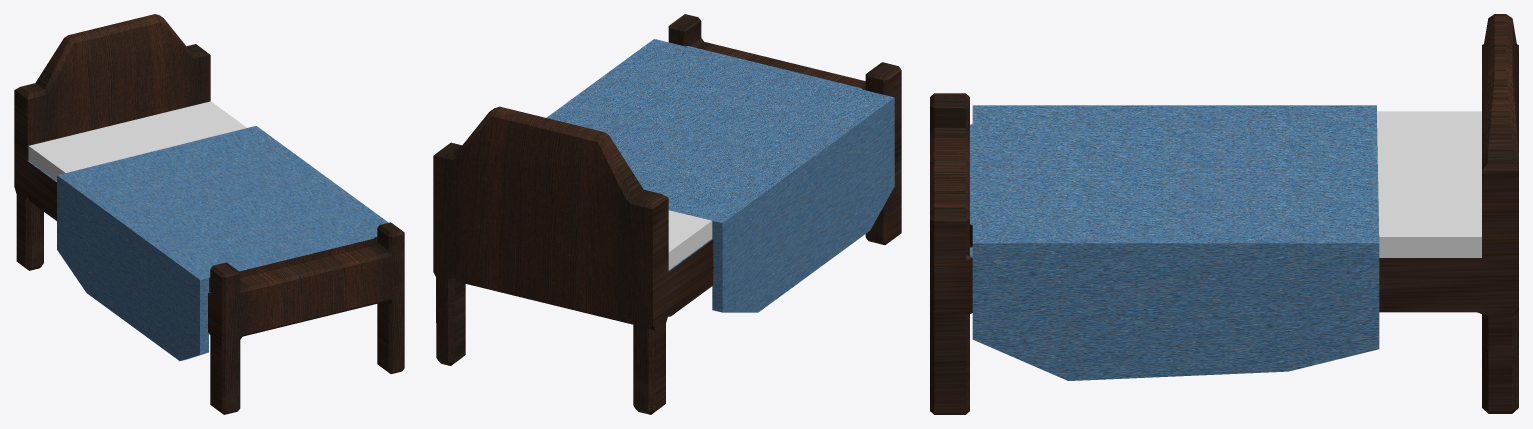
The model's file is Bed(Single).fbx.
The picture shows the model from 3 angles, left to right: view 1: azimuth 30°, elevation 25°; view 2: azimuth 150°, elevation 25°; view 3: azimuth 270°, elevation 25°; orthographic projection. The views are drawn at different scales.
Visible parts, largest first — view 1: Bed; view 2: Bed; view 3: Bed.
Part boxes in pixels (bbox=[...]): Bed: bbox=[14, 14, 404, 414]; Bed: bbox=[433, 14, 901, 414]; Bed: bbox=[930, 14, 1518, 414].
Size of the model in its own units: 1.48 by 1.55 by 2.67.
3 materials, 2 textured.
